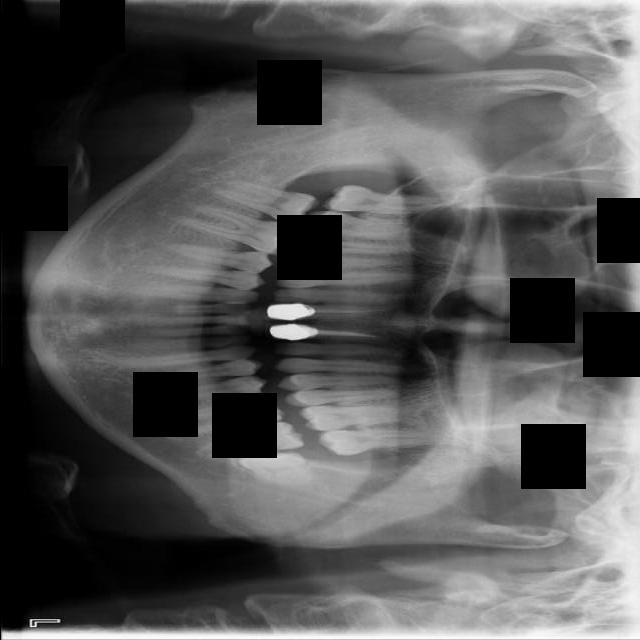52: (262, 322, 317, 343), (262, 302, 314, 323)
73: (307, 324, 390, 345), (299, 304, 393, 321), (32, 618, 52, 626)
BioHorizons Implant: (315, 428, 437, 457)
Biomet 3i Implant: (236, 448, 306, 486)
Blue Sky Bio Implant: (196, 418, 305, 459)
Caries: (322, 183, 456, 219)
Implant: (213, 174, 319, 230)
